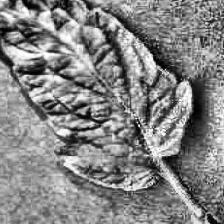leaf mold: (0, 0, 194, 189)
